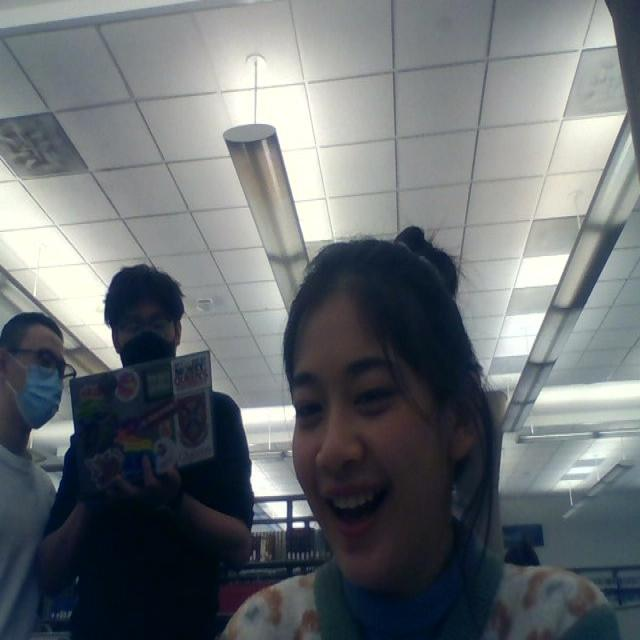Yawn: (289, 359, 425, 553)
